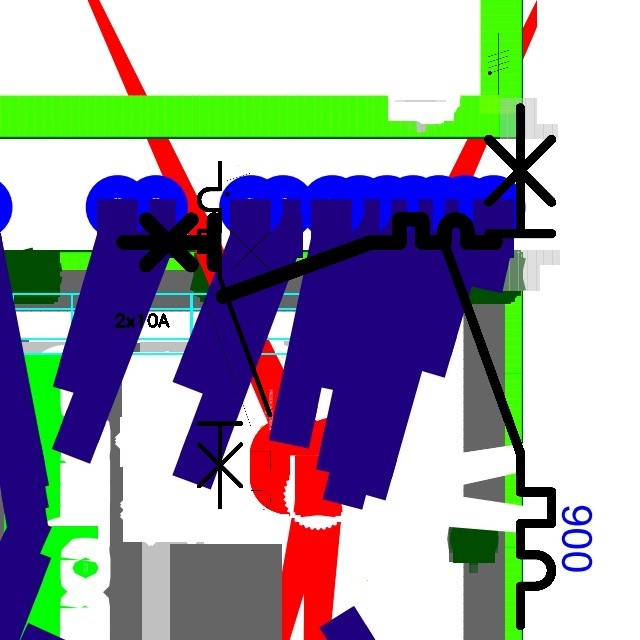interruptor_termomagnetico: (432, 94, 565, 639), (114, 210, 505, 306), (190, 154, 278, 516), (196, 203, 279, 543)
